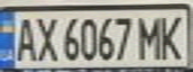0: (78, 15, 100, 62)
6: (57, 14, 81, 62), (97, 14, 118, 61)
7: (112, 14, 136, 61)
A: (12, 14, 39, 62)
K: (157, 11, 190, 61)
M: (136, 12, 166, 61)
X: (33, 14, 60, 63)
